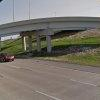Bridge: (3, 12, 87, 49)
